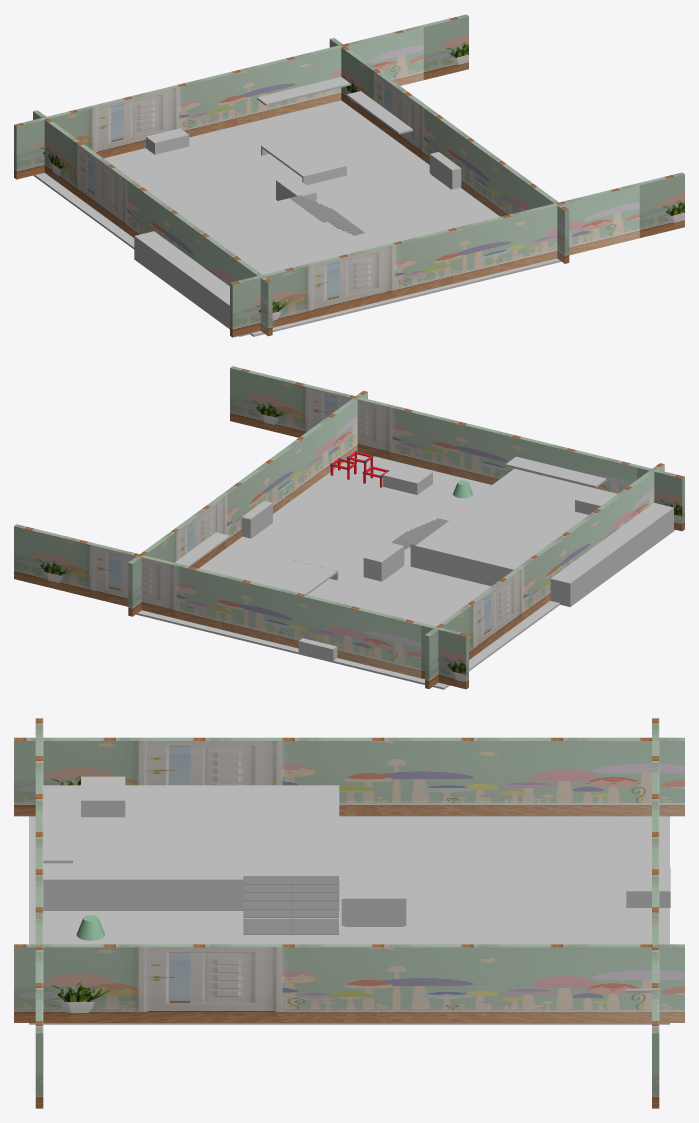
File: KBCjam Stage.FBX
The picture shows the model from 3 angles, top to bottom: view 1: azimuth 30°, elevation 25°; view 2: azimuth 150°, elevation 25°; view 3: azimuth 270°, elevation 25°; orthographic projection. The views are drawn at different scales.
Parts seen in each view (by area): view 1: Wall (×4), Yuka, Yuka2, Tana003, Tana001, Kaidan, Tana, Box002; view 2: Wall (×4), Yuka, Yuka2, Tana003, Tana002, Box001, Tana, Kaidan, Box003, Box002; view 3: Wall (×4), Yuka, Yuka2, Kaidan, Tana003, Tana002, Box003, Hondana008, Box002, Tana001.
Boxes of the visible parts, left/top/right/bottom form: Wall (×4): left=14, top=14, right=684, bottom=337; Yuka: left=33, top=100, right=561, bottom=336; Yuka2: left=134, top=198, right=365, bottom=336; Tana003: left=261, top=136, right=345, bottom=177; Tana001: left=257, top=77, right=350, bottom=105; Kaidan: left=290, top=195, right=364, bottom=235; Tana: left=346, top=91, right=412, bottom=134; Box002: left=146, top=128, right=189, bottom=154; Wall (×4): left=14, top=366, right=684, bottom=689; Yuka: left=136, top=454, right=559, bottom=689; Yuka2: left=410, top=468, right=675, bottom=606; Tana003: left=262, top=560, right=337, bottom=594; Tana002: left=505, top=456, right=606, bottom=487; Box001: left=383, top=464, right=432, bottom=494; Tana: left=175, top=532, right=229, bottom=566; Kaidan: left=391, top=518, right=448, bottom=549; Box003: left=575, top=488, right=615, bottom=514; Box002: left=298, top=638, right=337, bottom=661; Wall (×4): left=14, top=718, right=684, bottom=1108; Yuka: left=29, top=816, right=669, bottom=1024; Yuka2: left=43, top=785, right=339, bottom=910; Kaidan: left=243, top=876, right=338, bottom=936; Tana003: left=432, top=926, right=546, bottom=944; Tana002: left=43, top=797, right=72, bottom=863; Box003: left=81, top=776, right=125, bottom=817; Hondana008: left=344, top=900, right=404, bottom=926; Box002: left=626, top=867, right=670, bottom=908; Tana001: left=625, top=927, right=651, bottom=992.
Bounding box in the file's own units: 6450 × 5805 × 751.
